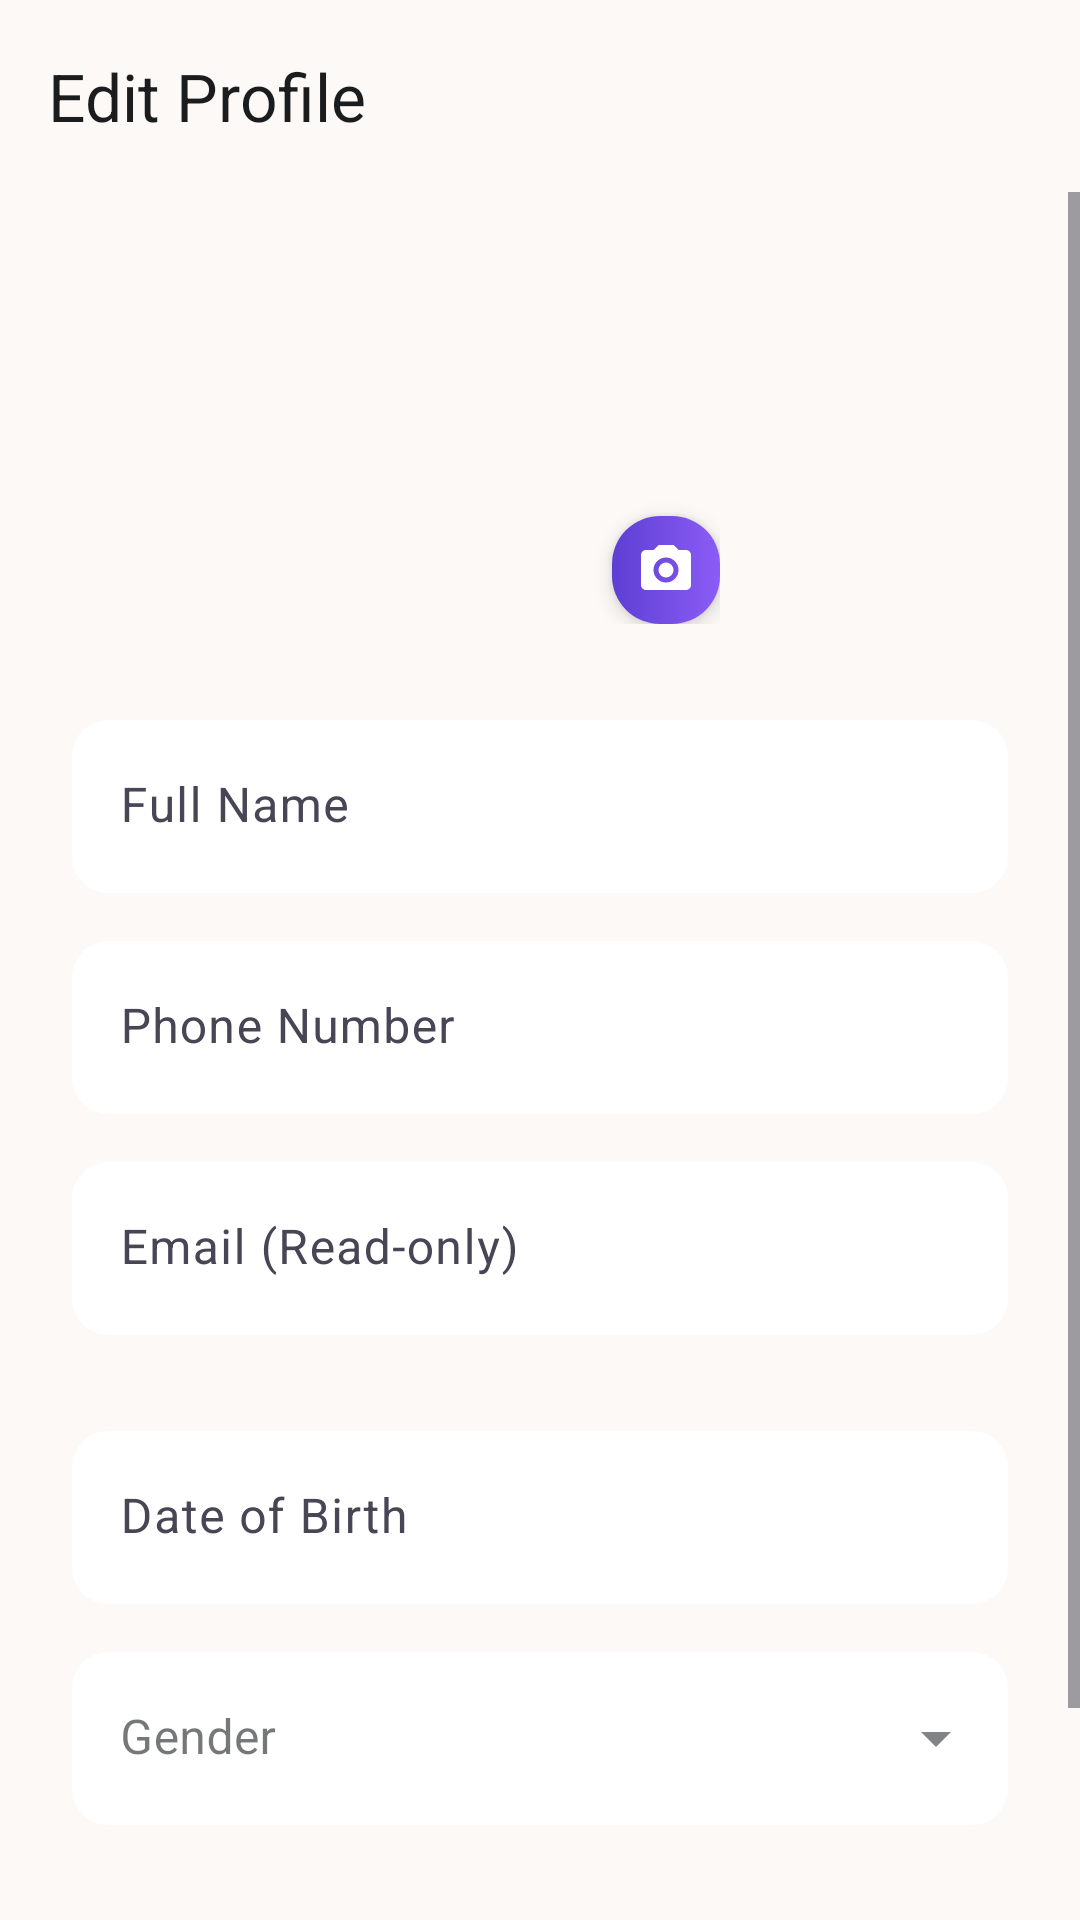

Named icons in this screenshot (1080w x 1920h) and their centers, (x,y):
camera: (668,570)
